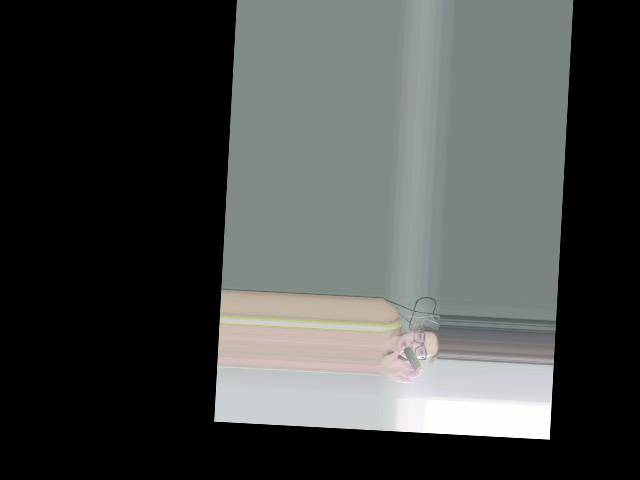cucumber: (402, 346, 422, 369)
